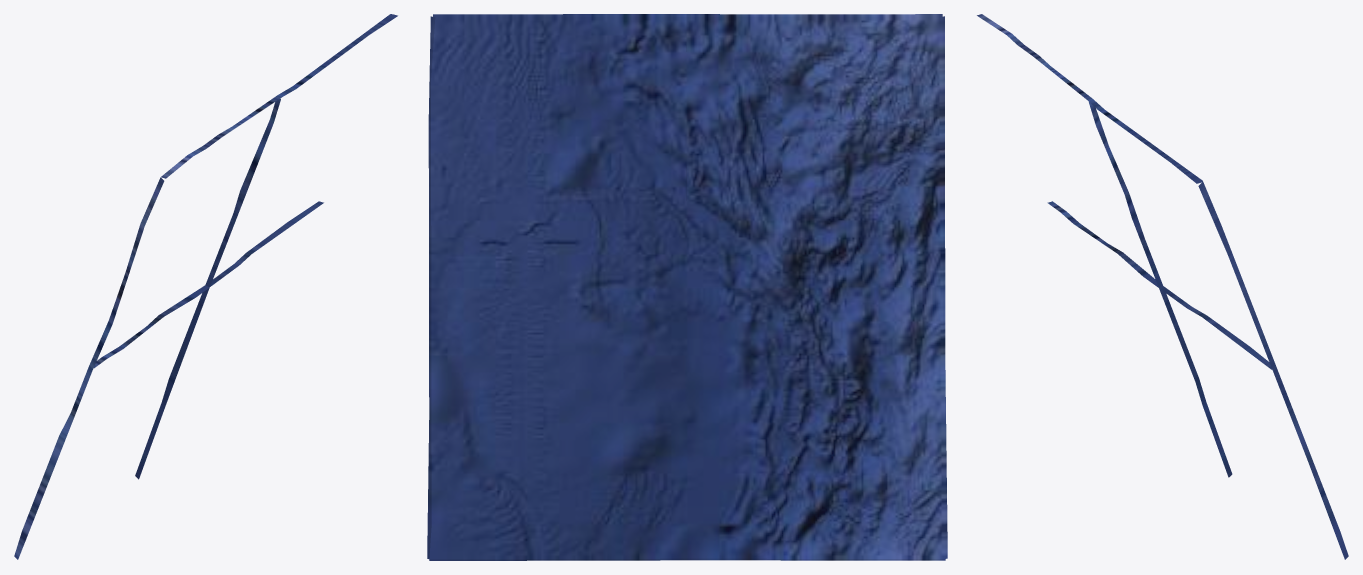
The picture shows the model from 3 angles, left to right: view 1: azimuth 30°, elevation 25°; view 2: azimuth 150°, elevation 25°; view 3: azimuth 270°, elevation 25°; orthographic projection. The views are drawn at different scales.
Bounding box in the file's own units: 156903 × 149212 × 121288.
Materials: 1 (1 with a texture image).
